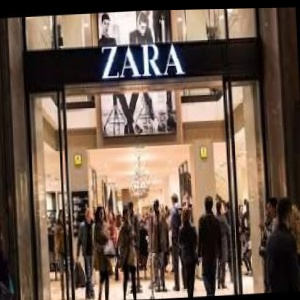zara: (139, 24, 240, 58)
